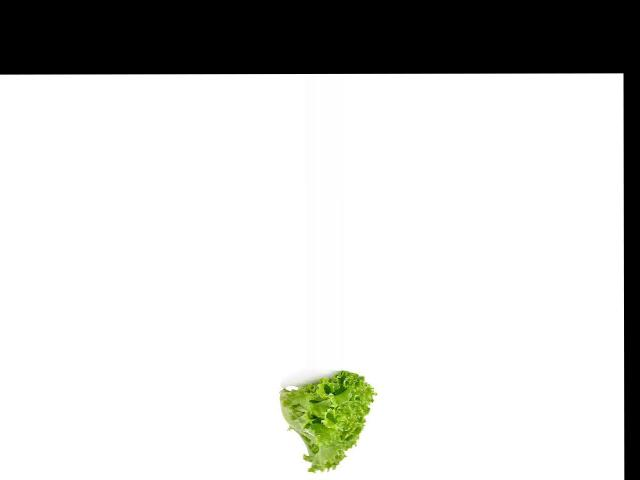lettuce: (273, 370, 382, 475)
